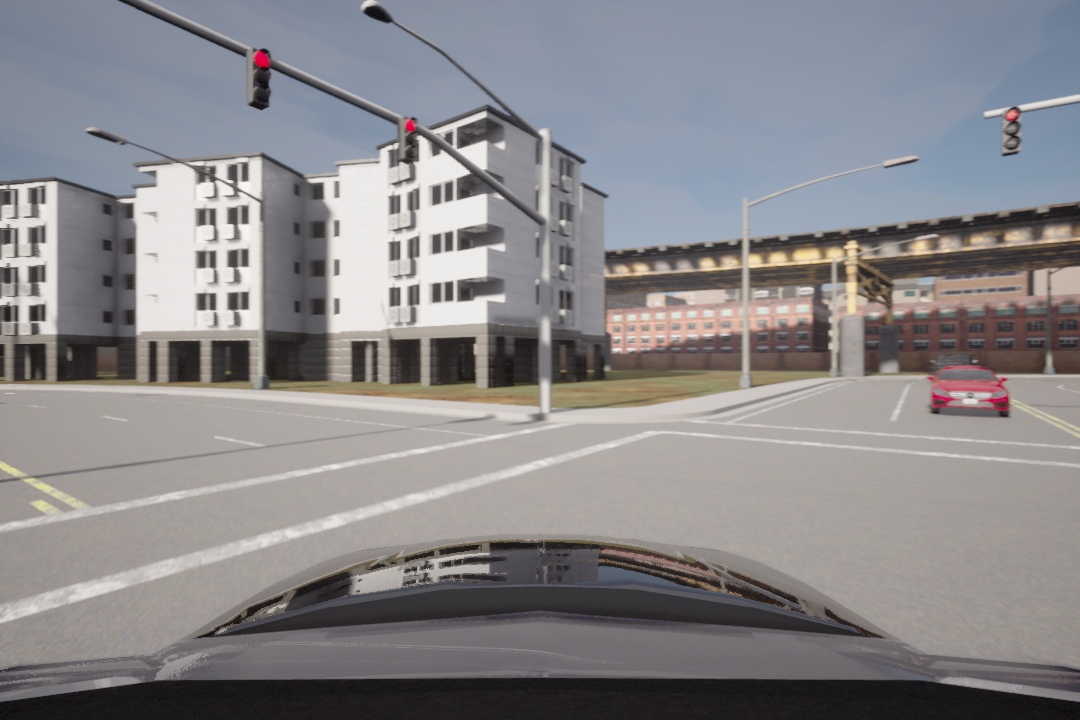TrafficLight: (244, 41, 279, 114), (393, 115, 424, 162), (1004, 105, 1025, 157)
